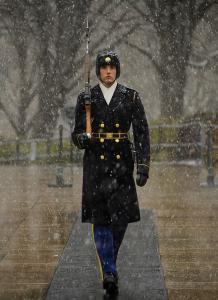up: (67, 45, 154, 295)
